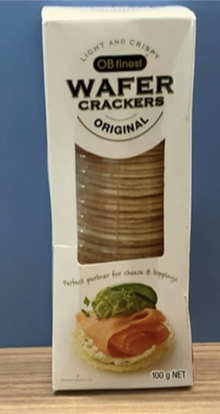crackers_150g: (60, 32, 190, 385)
